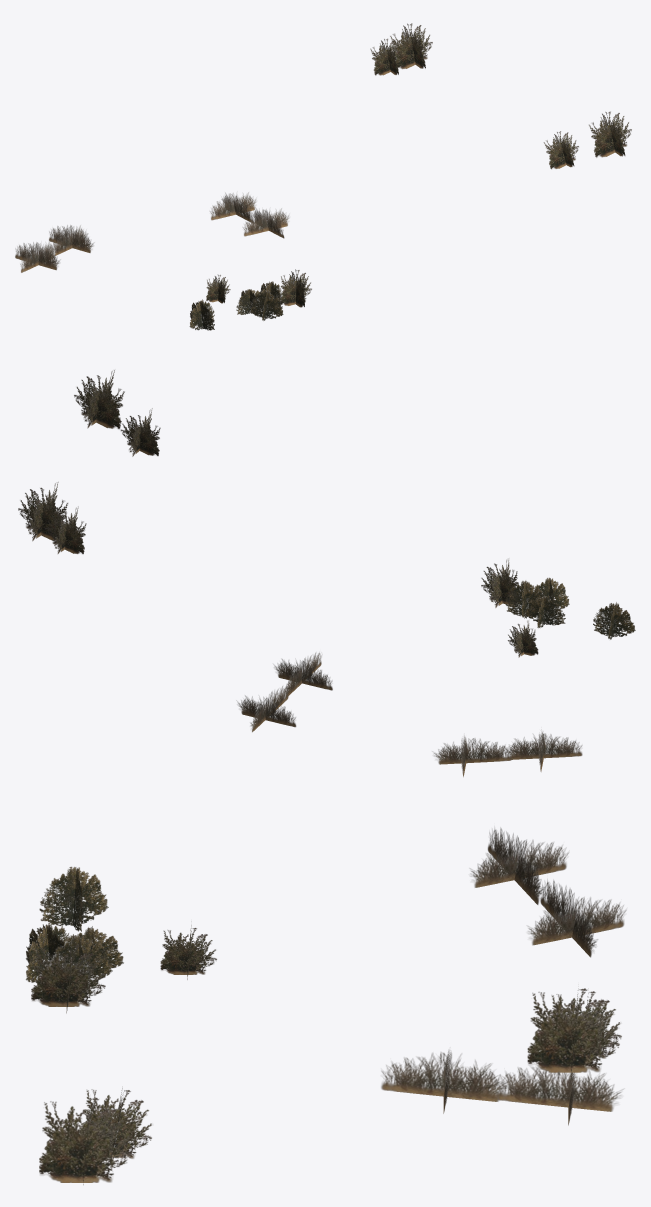
File: 0702worlddeserttransparent_worlddeserttransparentmaterial_0_lev.glb
The picture shows the model from 3 angles, top to bottom: view 1: azimuth 30°, elevation 25°; view 2: azimuth 150°, elevation 25°; view 3: azimuth 270°, elevation 25°; orthographic projection. The views are drawn at different scales.
Parts seen in each view (by area): view 1: 0702worlddeserttransparent_worlddeserttransparentmaterial_0_; view 2: 0702worlddeserttransparent_worlddeserttransparentmaterial_0_; view 3: 0702worlddeserttransparent_worlddeserttransparentmaterial_0_.
Boxes of the visible parts, <box> form: 0702worlddeserttransparent_worlddeserttransparentmaterial_0_: <box>15,23,631,330</box>; 0702worlddeserttransparent_worlddeserttransparentmaterial_0_: <box>18,370,635,776</box>; 0702worlddeserttransparent_worlddeserttransparentmaterial_0_: <box>26,828,626,1184</box>.
Size of the model in its own units: 12.29 by 3.51 by 6.29.
Materials: 1 (1 with a texture image).
